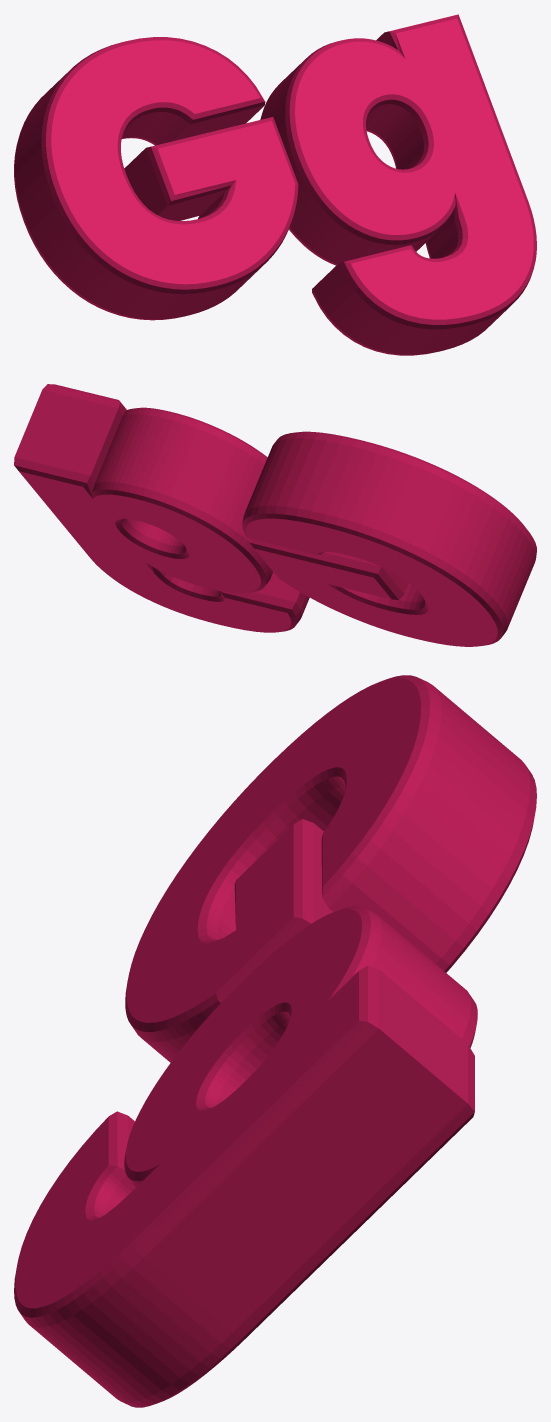
3 renders of one model, top to bottom at view 1: azimuth 30°, elevation 25°; view 2: azimuth 150°, elevation 25°; view 3: azimuth 270°, elevation 25°, orthographic. The views are drawn at different scales.
Visible parts, largest first — view 1: letter; view 2: letter; view 3: letter.
Part boxes in pixels (box(x1,y1,x2,y2)): letter: box(14, 14, 536, 355); letter: box(14, 384, 536, 646); letter: box(14, 675, 536, 1407).
Bounding box in the file's own units: 1.92 × 1.26 × 1.21.
